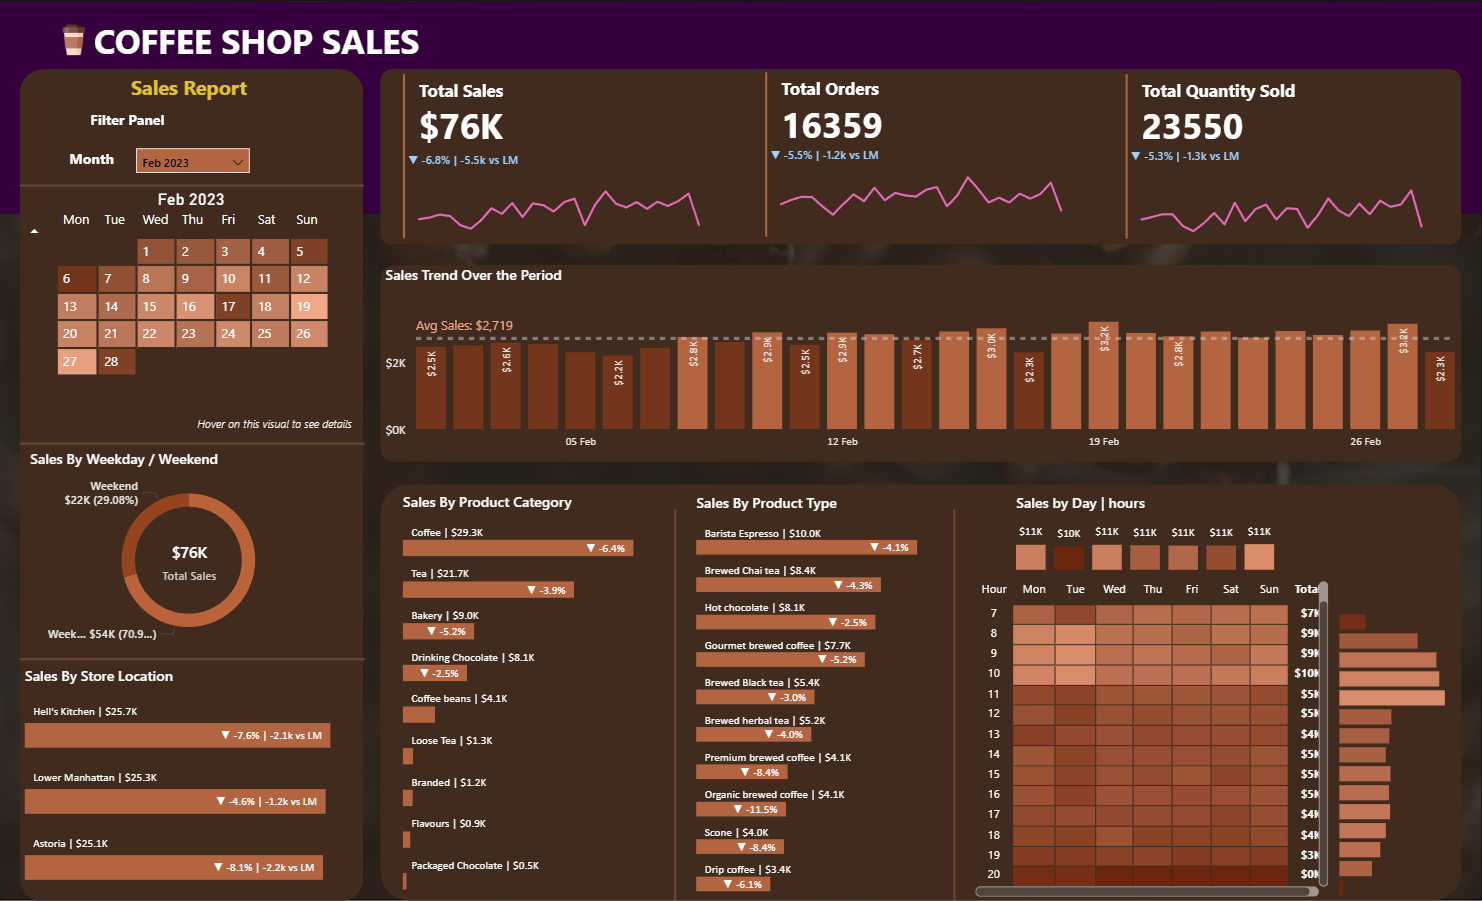

What the dashboard file says about the page in this screenshot:
{"tool":"powerbi","page":{"name":"Page 1","canvas":[1400,850],"ordinal":0},"visuals":[{"type":"shape","box":[0,1.4,1400,200],"z":0},{"type":"cardVisual","fields":{"Data":["Transactions.Total Orders"]},"box":[717.9,62.9,300,165.7],"z":0,"group":"g2"},{"type":"cardVisual","fields":{"Data":["Transactions.Total Sales"]},"box":[377.1,64.3,300,165.7],"z":0,"group":"g1"},{"type":"cardVisual","fields":{"Data":["Transactions.Total Quantity Sold"]},"box":[1058.6,64.3,300,165.7],"z":0,"group":"g3"},{"type":"shape","box":[20,64.3,324.3,785.7],"z":1000},{"type":"lineChart","fields":{"Category":["Date Table.Date Hierarchy.Date"],"Y":["Transactions.Total Orders"]},"box":[722.2,138.6,294.3,85.7],"z":1000,"group":"g2"},{"type":"lineChart","fields":{"Category":["Date Table.Date Hierarchy.Date"],"Y":["Transactions.Total Quantity Sold"]},"box":[1062.9,140,294.3,85.7],"z":1000,"group":"g3"},{"type":"lineChart","fields":{"Category":["Date Table.Date Hierarchy.Date"],"Y":["Transactions.Total Sales"]},"box":[382.8,142.9,294.3,85.7],"z":1000,"group":"g1"},{"type":"shape","box":[360,64.3,1020,165.7],"z":2000},{"type":"textbox","box":[85.7,11.4,345.7,52.9],"z":3000},{"type":"slicer","fields":{"Values":["Date Table.Month Year"]},"box":[124.3,135.7,117.1,38.6],"z":4000},{"type":"group","id":"g1","title":"Group 1","box":[377.1,64.3,300,165.7],"z":5000},{"type":"group","id":"g2","title":"Group 1","box":[717.9,62.9,300,165.7],"z":6000},{"type":"group","id":"g3","title":"Group 1","box":[1058.6,64.3,300,165.7],"z":7000},{"type":"pivotTable","fields":{"Rows":["Date Table.Week Number"],"Columns":["Date Table.Day Name"],"Values":["Min(Date Table.Day Number)"]},"box":[20,190,305.7,197.1],"z":8000},{"type":"card","fields":{"Values":["Min(Date Table.Month Year)"]},"box":[145,174,74,25],"z":9000},{"type":"card","fields":{"Values":["Transactions.Foot Note"]},"box":[174.3,387.1,171.4,31.4],"z":10000},{"type":"shape","box":[20,402.9,325.7,30],"z":11000},{"type":"shape","box":[20,160,325,30],"z":12000},{"type":"donutChart","title":"Sales By Weekday / Weekend","fields":{"Category":["Date Table.Weekday / Weekend"],"Y":["Transactions.Total Sales"]},"box":[25.7,422.9,308.6,192.9],"z":13000},{"type":"card","fields":{"Values":["Transactions.Total Sales"]},"box":[131.4,501.4,97.1,55.7],"z":14000},{"type":"shape","box":[20,607.1,325.7,30],"z":15000},{"type":"clusteredBarChart","title":"Sales By Store Location","fields":{"Category":["Transactions.store_location"],"Y":["Transactions.Placeholder","Transactions.Total Sales"]},"box":[20,628.6,324.3,210],"z":16000},{"type":"shape","box":[360,457.1,1020,392.9],"z":17000},{"type":"shape","box":[360,250,1020,185.7],"z":18000},{"type":"columnChart","title":"Sales Trend Over the Period","fields":{"Category":["Transactions.transaction_date"],"Y":["Transactions.Total Sales"]},"box":[360,250,1020,182.9],"z":19000},{"type":"clusteredBarChart","title":"Sales By Product Category","fields":{"Y":["Transactions.Placeholder","Transactions.Total Sales"],"Category":["Transactions.product_category"]},"box":[377.1,462.9,250,381.4],"z":20000},{"type":"shape","box":[622.9,480,30,370],"z":21000},{"type":"clusteredBarChart","title":"Sales By Product Type","fields":{"Y":["Transactions.Placeholder","Transactions.Total Sales"],"Category":["Transactions.product_type"]},"box":[652.9,464.3,250,381.4],"z":22000},{"type":"shape","box":[887.1,480,30,370],"z":22001},{"type":"pivotTable","fields":{"Rows":["Transactions.Hour"],"Columns":["Date Table.Day Name"],"Values":["Transactions.Total Sales"]},"box":[916.7,543.3,343.3,306.7],"z":22002},{"type":"barChart","fields":{"Y":["Transactions.Total Sales"],"Category":["Transactions.Hour"]},"box":[1260,567.1,112.9,282.9],"z":22003},{"type":"columnChart","title":"Sales by Day | hours","fields":{"Y":["Transactions.Total Sales"],"Category":["Date Table.Day Name"]},"box":[955.7,464.3,254.3,78.6],"z":22004},{"type":"textbox","box":[61.4,135.7,58.6,31.4],"z":22005},{"type":"textbox","box":[120,64.3,122.9,37.1],"z":22006},{"type":"textbox","box":[81.4,98.6,100,34.3],"z":22007},{"type":"image","box":[35.7,18.6,71.4,38.6],"z":22008}]}

Visuals, with their boxes in screenshot pixels (x1, y1, x2, y2), scaled from the page's 1400x850 canvas onto the 1482x901 screenshot:
shape: 0 1 1481 213
cardVisual - Transactions.Total Orders: 760 67 1078 242
cardVisual - Transactions.Total Sales: 399 68 717 244
cardVisual - Transactions.Total Quantity Sold: 1121 68 1438 244
shape: 21 68 364 900
lineChart - Date Table.Date Hierarchy.Date x Transactions.Total Orders: 765 147 1076 238
lineChart - Date Table.Date Hierarchy.Date x Transactions.Total Quantity Sold: 1125 148 1437 239
lineChart - Date Table.Date Hierarchy.Date x Transactions.Total Sales: 405 151 717 242
shape: 381 68 1461 244
textbox: 91 12 457 68
slicer - Date Table.Month Year: 132 144 256 185
"Group 1" group: 399 68 717 244
"Group 1" group: 760 67 1078 242
"Group 1" group: 1121 68 1438 244
pivotTable - Date Table.Week Number x Date Table.Day Name: 21 201 345 410
card - Min(Date Table.Month Year): 153 184 232 211
card - Transactions.Foot Note: 185 410 366 444
shape: 21 427 366 459
shape: 21 170 365 201
"Sales By Weekday / Weekend" donutChart: 27 448 354 653
card - Transactions.Total Sales: 139 531 242 591
shape: 21 644 366 675
"Sales By Store Location" clusteredBarChart: 21 666 364 889
shape: 381 485 1461 900
shape: 381 265 1461 462
"Sales Trend Over the Period" columnChart: 381 265 1461 459
"Sales By Product Category" clusteredBarChart: 399 491 664 895
shape: 659 509 691 900
"Sales By Product Type" clusteredBarChart: 691 492 956 896
shape: 939 509 971 900
pivotTable - Transactions.Hour x Date Table.Day Name: 970 576 1334 900
barChart - Transactions.Total Sales x Transactions.Hour: 1334 601 1453 900
"Sales by Day | hours" columnChart: 1012 492 1281 575
textbox: 65 144 127 177
textbox: 127 68 257 107
textbox: 86 105 192 141
image: 38 20 113 61
